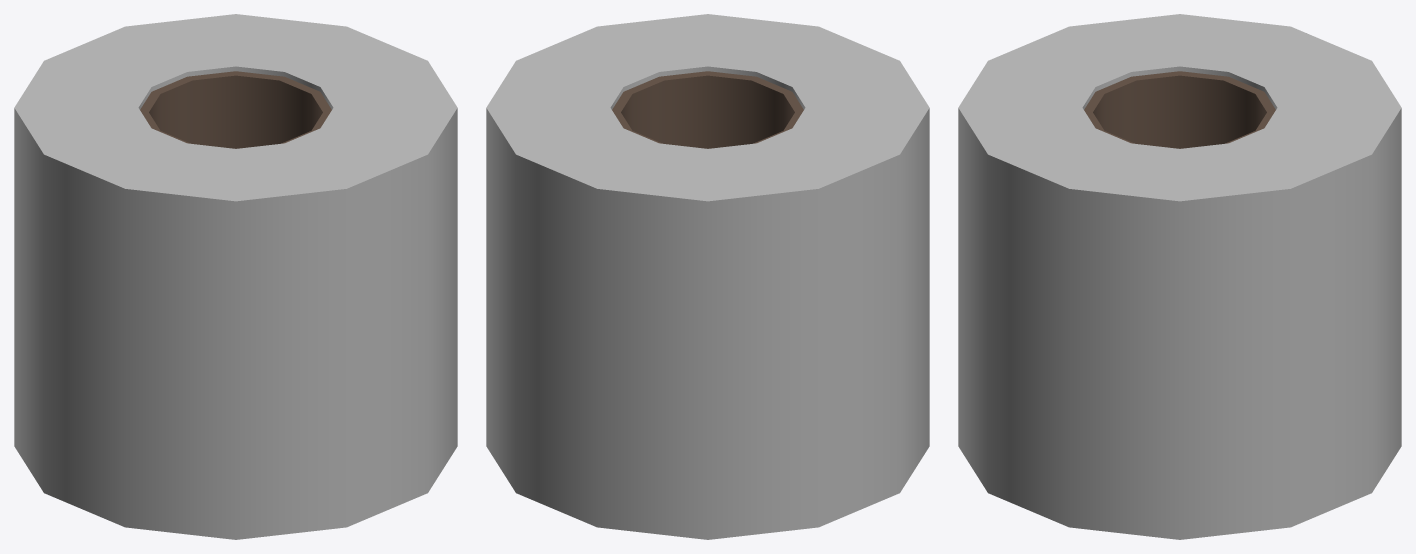
Rendered from CarlesRolloPapel.fbx.
3 views of the same model, side by side, from view 1: azimuth 30°, elevation 25°; view 2: azimuth 150°, elevation 25°; view 3: azimuth 270°, elevation 25° (orthographic).
Visible parts, largest first — view 1: RolloPapel; view 2: RolloPapel; view 3: RolloPapel.
Part boxes in pixels (x1=…): RolloPapel: x1=14, y1=14, x2=457, y2=539; RolloPapel: x1=486, y1=14, x2=929, y2=539; RolloPapel: x1=958, y1=14, x2=1401, y2=539.
Bounding box in the file's own units: 9.68 × 8.16 × 9.68.
